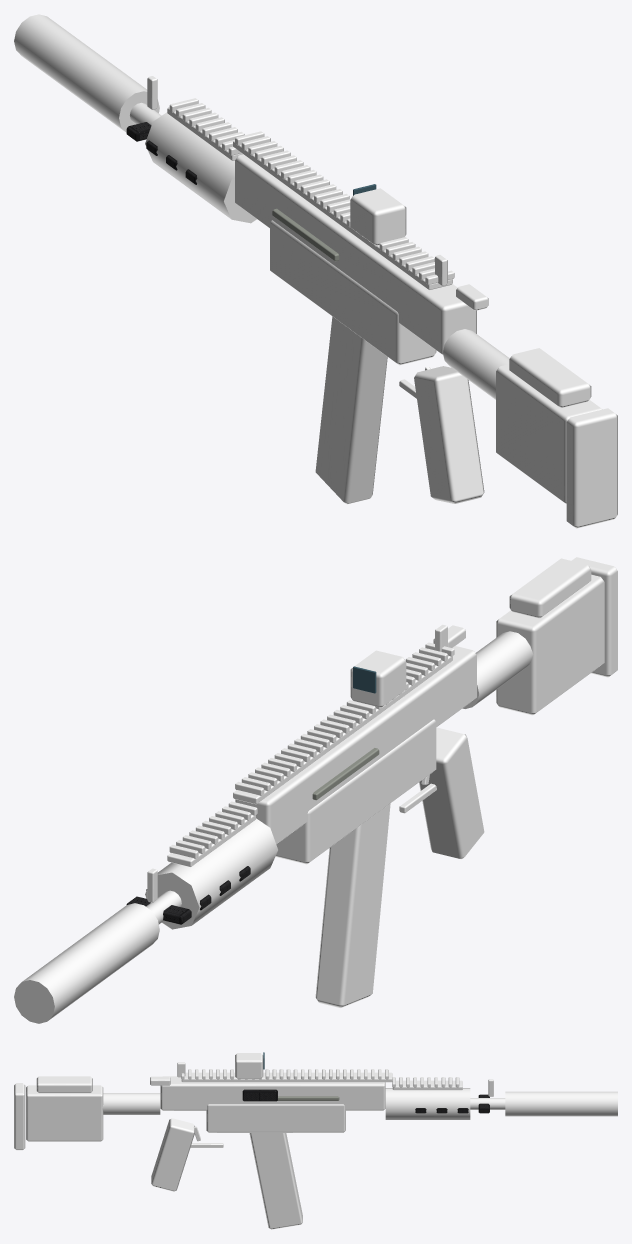
Rendered from bastion.glb.
3 views of the same model, one above another, from view 1: azimuth 30°, elevation 25°; view 2: azimuth 150°, elevation 25°; view 3: azimuth 270°, elevation 25° (orthographic). The views are drawn at different scales.
Bounding box in the file's own units: 0.05 × 0.2691 × 0.858.
Materials: 5 (1 with a texture image).
